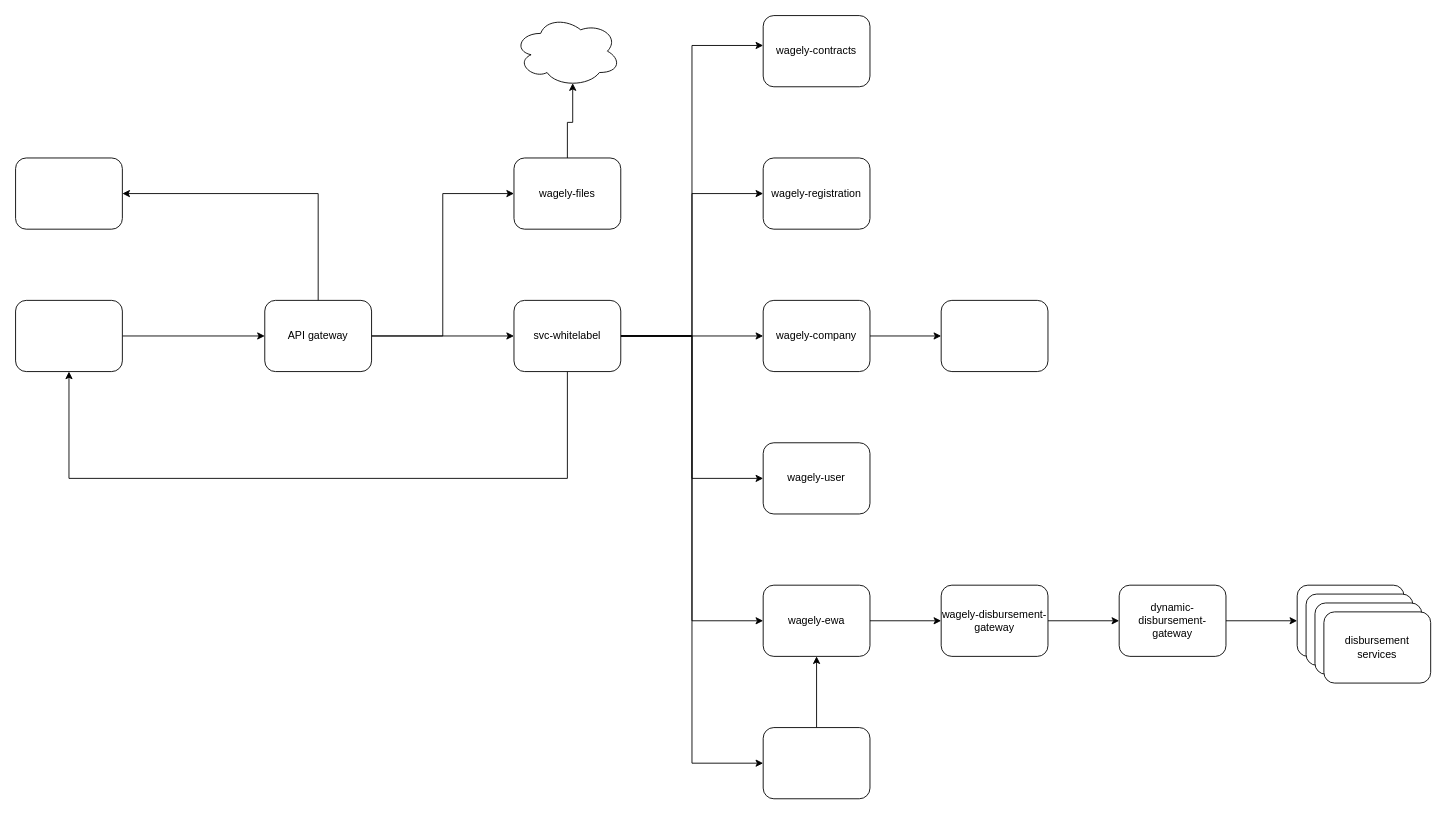
Some shapes in this 1446 by 814 pixel diagram are drawn without their labels. The box of each missing label's shape, as (x1, y1, x2, y2) in pixels:
Authorization Server: (15, 157, 122, 229)
AWS S3: (513, 15, 621, 87)
Client: (15, 299, 122, 372)
svc-ewa: (762, 727, 870, 799)
wagely-auth: (940, 299, 1048, 372)
